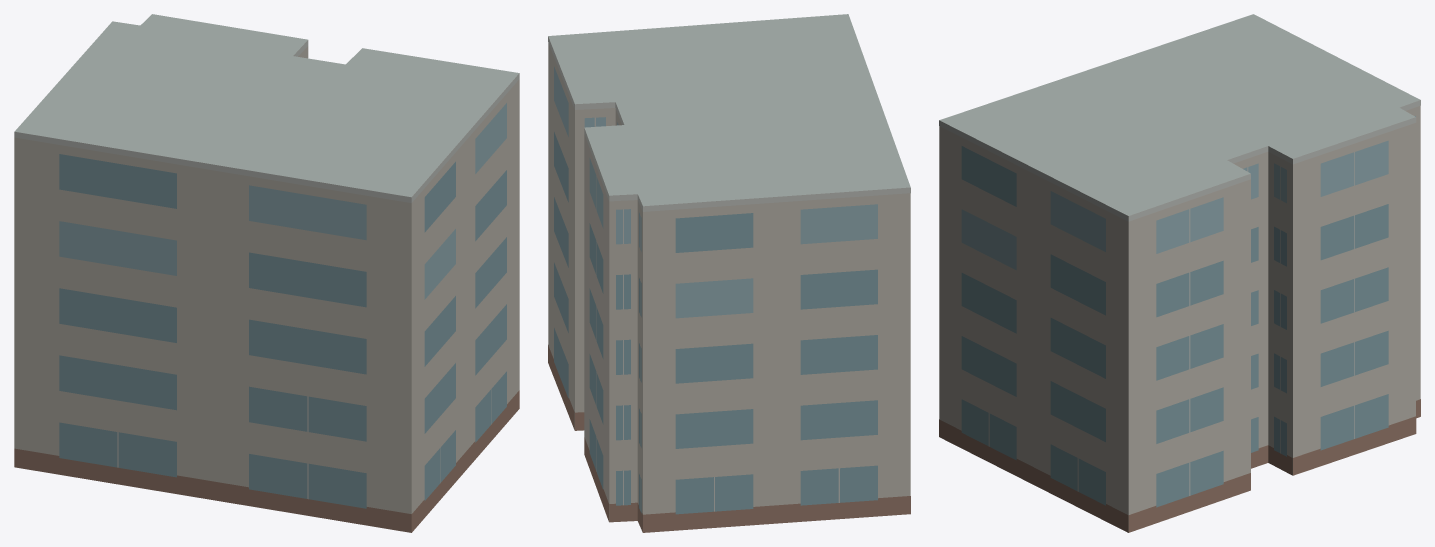
Rendered from survey-upis-32746874.glb.
3 renders of one model, left to right at view 1: azimuth 30°, elevation 25°; view 2: azimuth 150°, elevation 25°; view 3: azimuth 270°, elevation 25°, orthographic. The views are drawn at different scales.
Parts seen in each view (by area): view 1: survey-upis-32746874.tmp; view 2: survey-upis-32746874.tmp; view 3: survey-upis-32746874.tmp.
Boxes of the visible parts, bbox=[...] form: survey-upis-32746874.tmp: bbox=[14, 14, 519, 532]; survey-upis-32746874.tmp: bbox=[548, 14, 910, 532]; survey-upis-32746874.tmp: bbox=[939, 14, 1420, 532].
Bounding box in the file's own units: 18.96 × 13.85 × 19.1.
